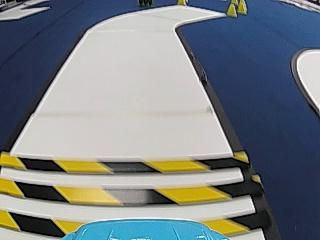bump: (2, 148, 275, 222)
